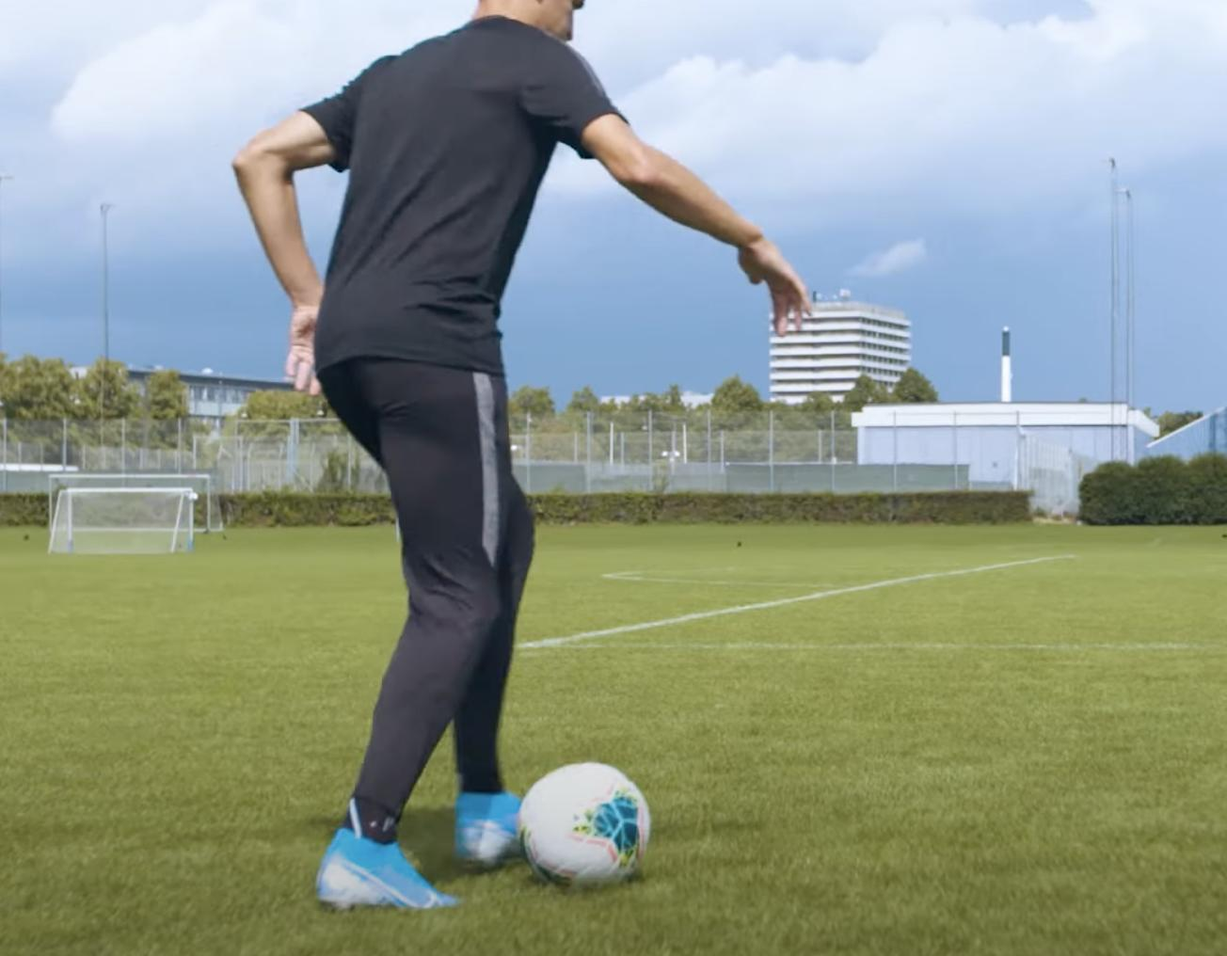ball: (523, 766, 655, 887)
foot: (310, 830, 449, 913), (451, 787, 527, 875)
person: (249, 0, 804, 920)
